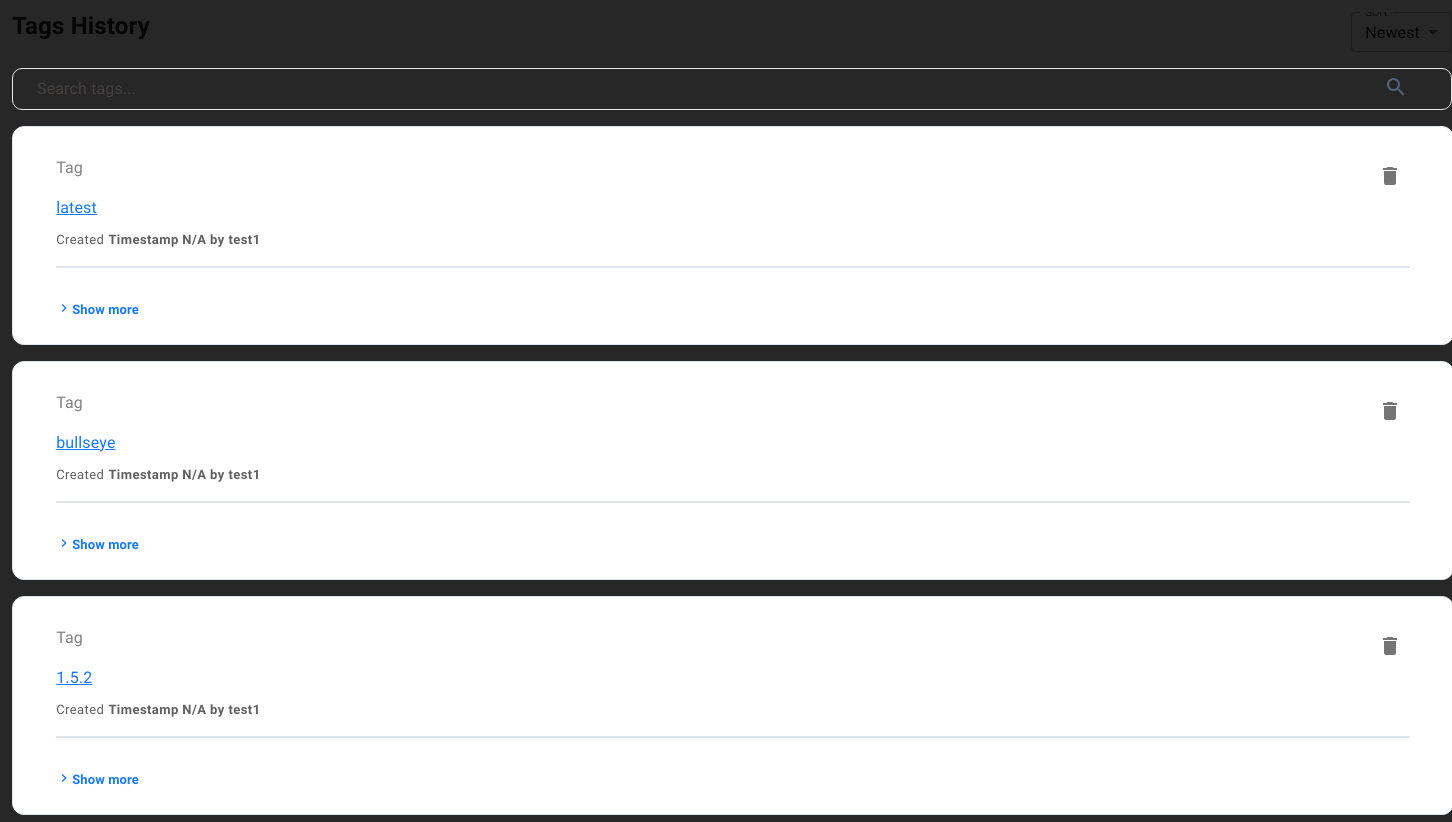
Tags component › should filter tag list based on user input
The width and height of the screenshot is (1452, 822).
Expected: the text "latest" is shown, [56,198,97,217]
Expected: the text "bullseye" is shown, [56,433,116,452]
Type "bull" into the field with placeholder "Search tags..." at (672, 89), box [37,73,1307,105]
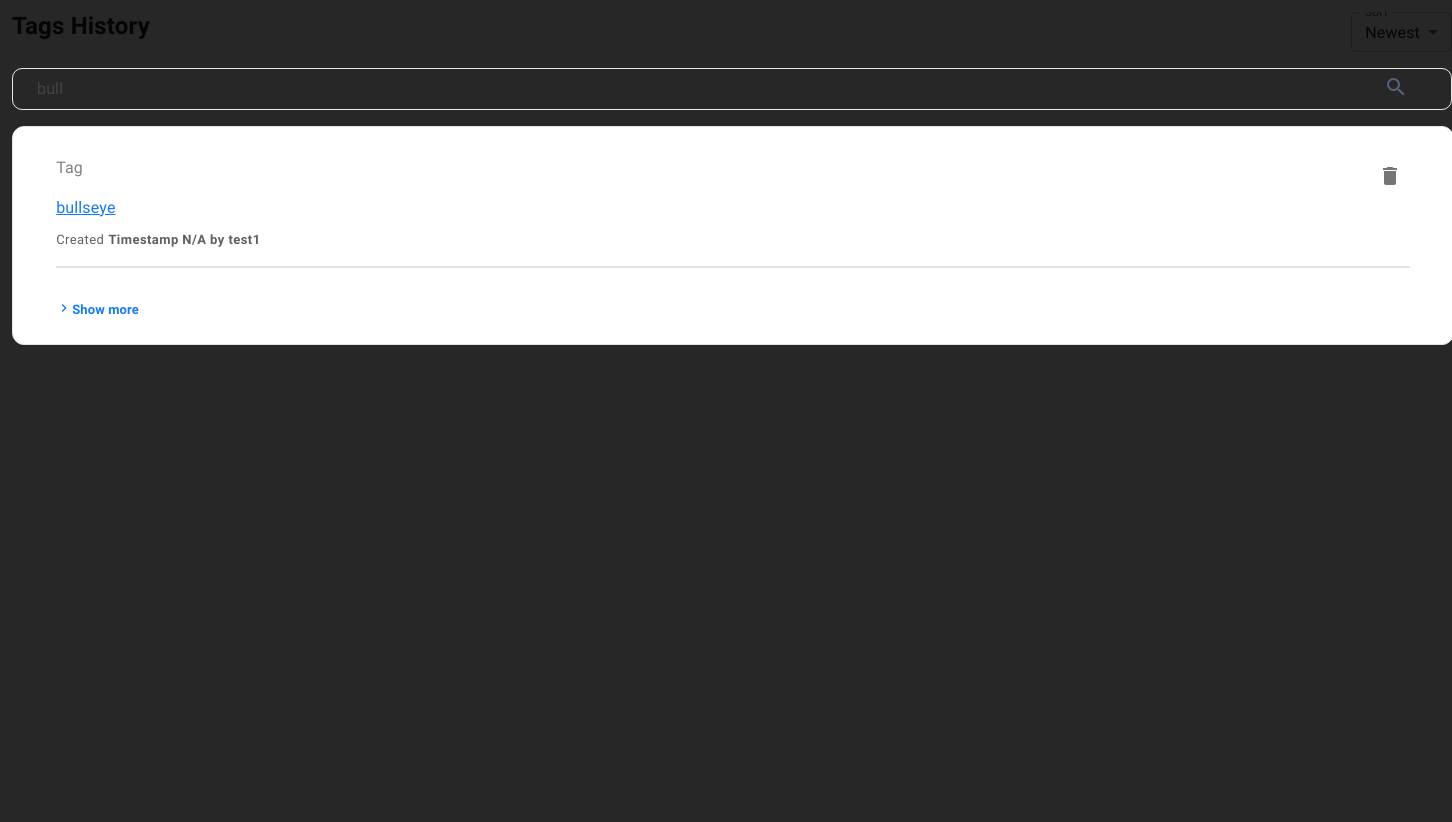
Expected: the text "bullseye" is shown, [56,198,116,217]
Expected: the text "latest" is gone
